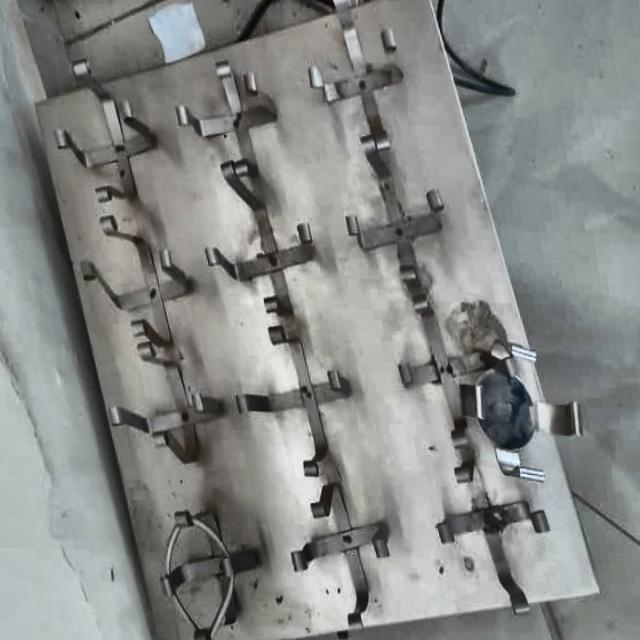Rotary Shaker: (21, 0, 596, 640)
